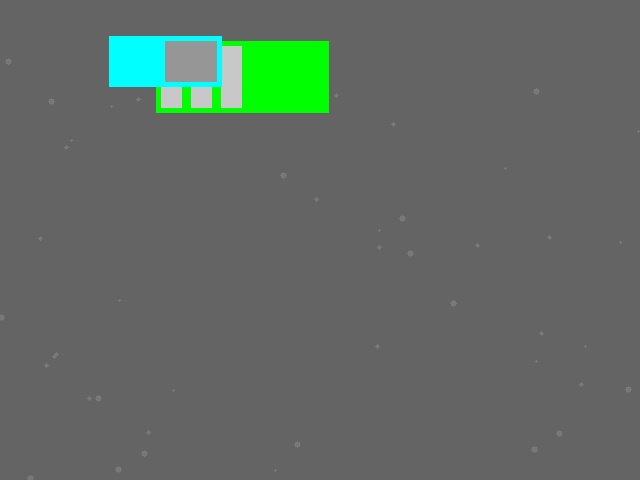bus: (156, 41, 328, 112)
truck: (109, 36, 221, 86)
